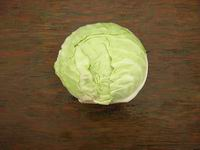cabbage: (52, 22, 149, 106)
